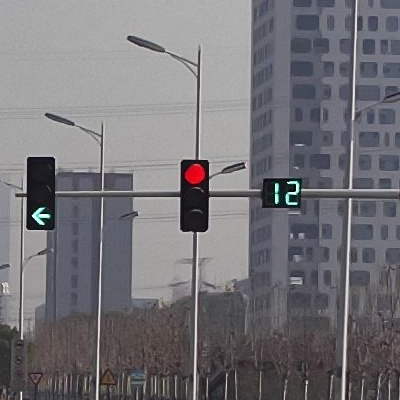green_arrow_left: (28, 156, 52, 229)
red_circle: (179, 159, 209, 231)
